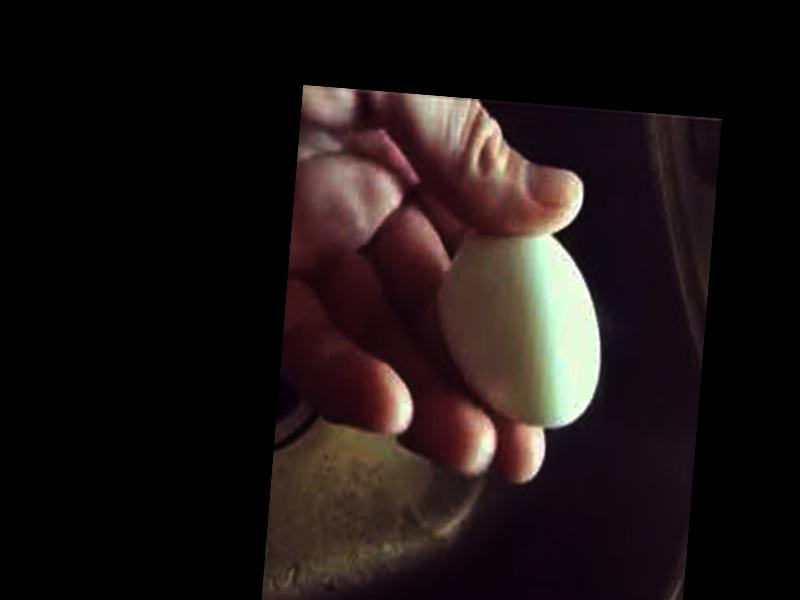Eggs: (433, 222, 611, 427)
